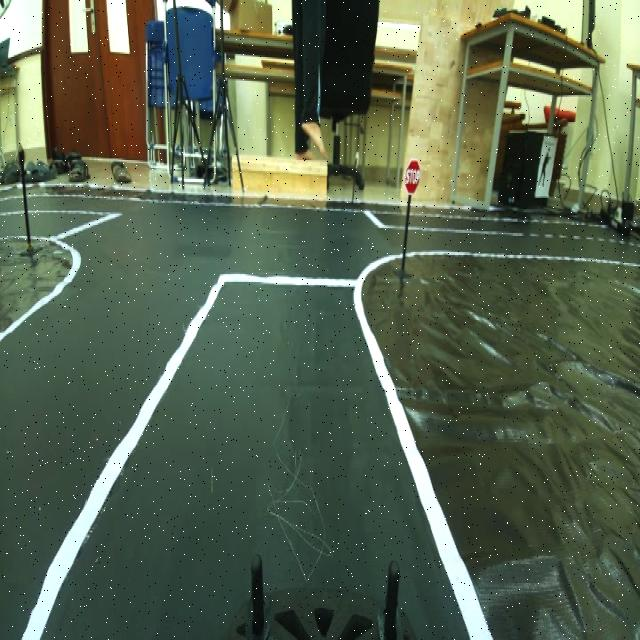stop: (403, 157, 424, 195)
